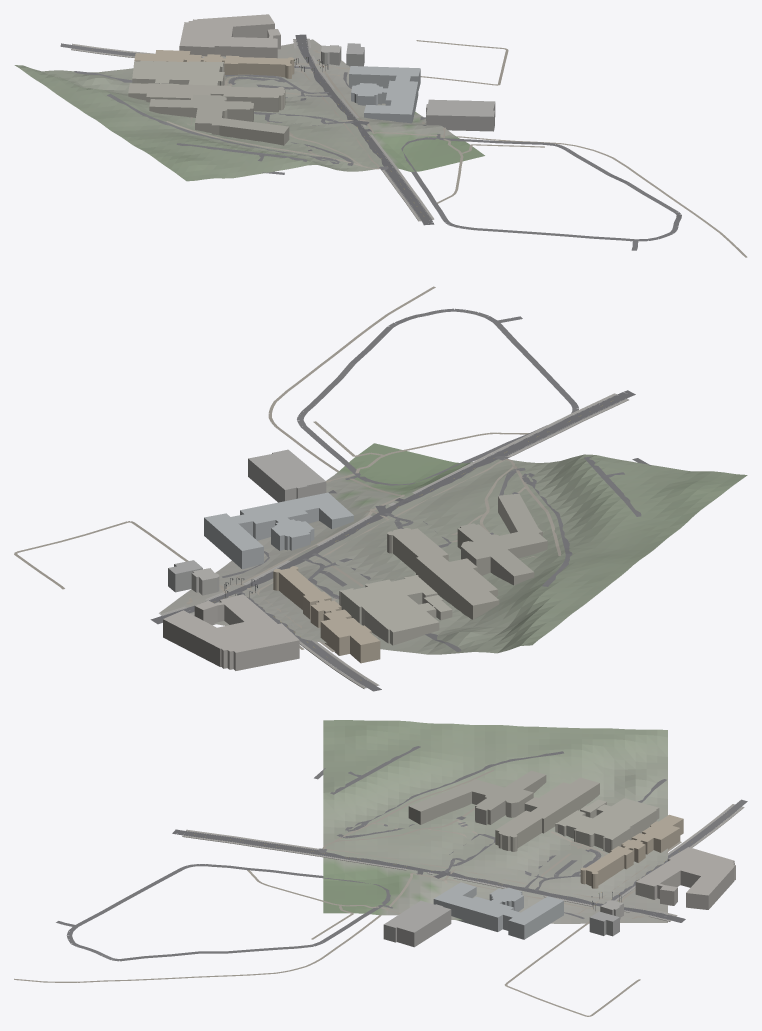
Rendered from tile_-9_-2.glb.
3 views of the same model, one above another, from view 1: azimuth 30°, elevation 25°; view 2: azimuth 150°, elevation 25°; view 3: azimuth 270°, elevation 25° (orthographic). The views are drawn at different scales.
Parts seen in each view (by area): view 1: terrain, buildings, roads, paths, sidewalks; view 2: terrain, buildings, roads, paths, sidewalks; view 3: terrain, buildings, roads, paths, sidewalks.
Part boxes in pixels (<box>): terrain: <box>14,39,484,181</box>; buildings: <box>128,14,495,145</box>; roads: <box>60,34,681,250</box>; paths: <box>166,40,747,257</box>; sidewalks: <box>71,38,434,221</box>; terrain: <box>159,443,747,654</box>; buildings: <box>163,449,547,670</box>; roads: <box>150,308,650,691</box>; paths: <box>14,286,561,651</box>; sidewalks: <box>160,393,628,688</box>; terrain: <box>323,720,667,923</box>; buildings: <box>383,770,735,947</box>; roads: <box>56,746,747,961</box>; paths: <box>14,770,681,1016</box>; sidewalks: <box>182,804,744,921</box>.
Size of the model in its own units: 389 by 62.07 by 545.
